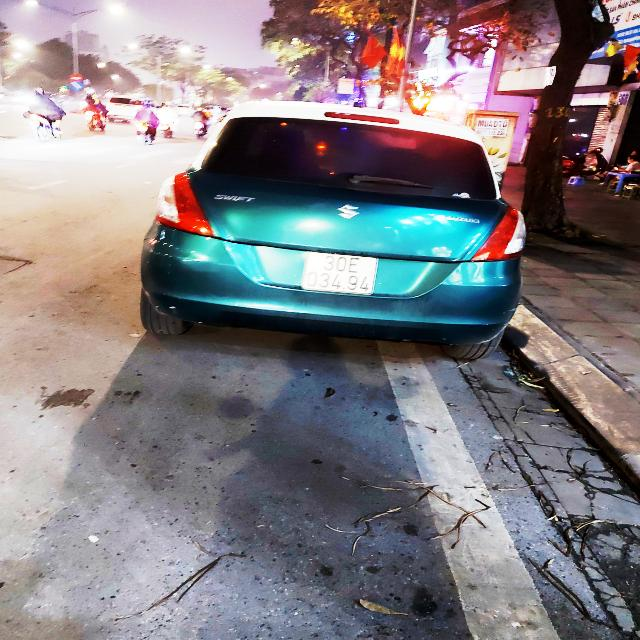license_plate: (303, 252, 378, 295)
